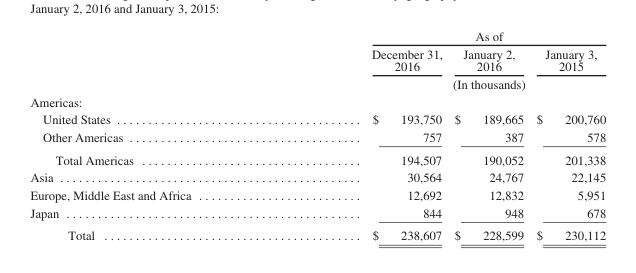table: (29, 28, 605, 242)
table column: (29, 28, 280, 242), (280, 28, 447, 242), (447, 28, 529, 242), (529, 28, 605, 242)
table column header: (29, 28, 605, 92)
table projected row header: (29, 92, 605, 110)
table row: (29, 44, 605, 74), (29, 127, 605, 148), (29, 148, 605, 168), (29, 203, 605, 223), (29, 223, 605, 242), (29, 74, 605, 92), (29, 92, 605, 110), (29, 185, 605, 203), (29, 110, 605, 127), (29, 168, 605, 185), (29, 28, 605, 44)
table spanning cell: (280, 74, 605, 92), (280, 28, 605, 44)
